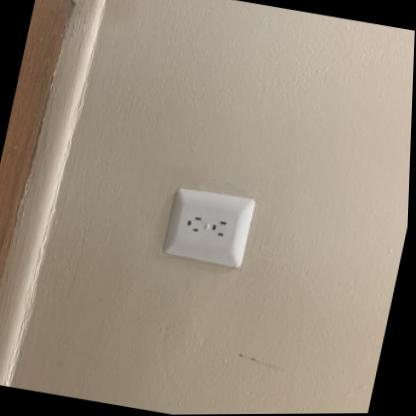OUTLET: (156, 183, 258, 270)
